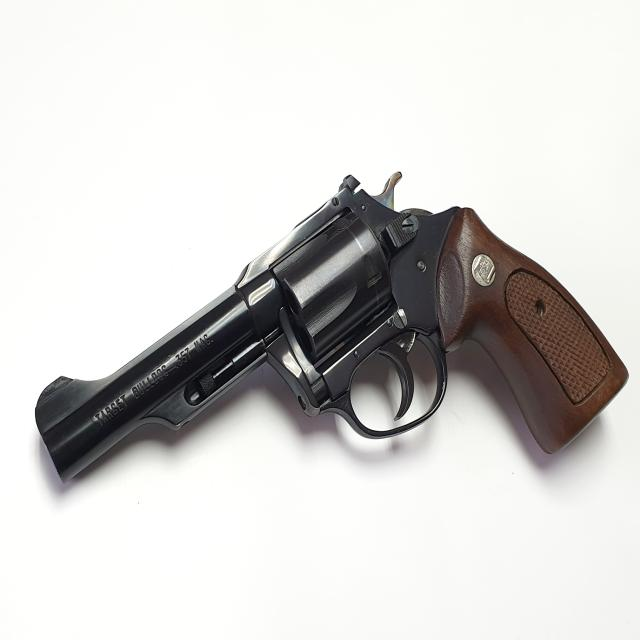Gun: (29, 196, 622, 528), (43, 246, 45, 250)
